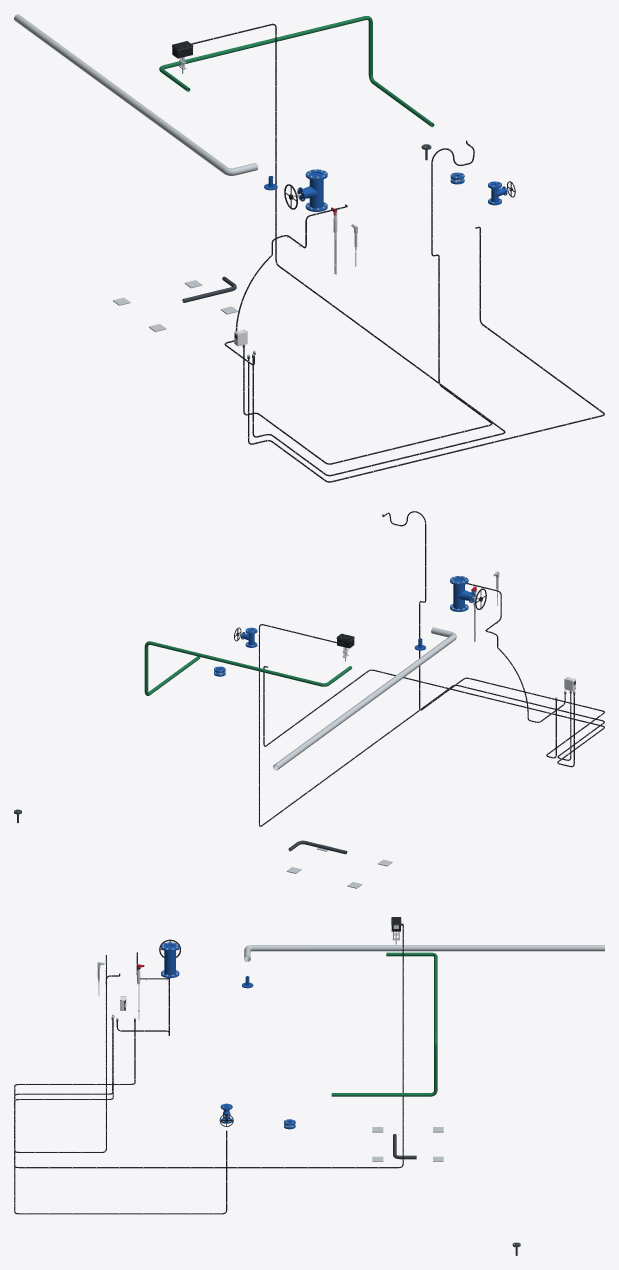
Rendered from s4000-4-CAL-NnXQ.glb.
3 renders of one model, top to bottom at view 1: azimuth 30°, elevation 25°; view 2: azimuth 150°, elevation 25°; view 3: azimuth 270°, elevation 25°, orthographic. The views are drawn at different scales.
Visible parts, largest first — view 1: safety_vent_2 / steel, mod_eco_drive_cable / black, to_direct / green, wiring_pump_1 / black, wiring_pressure_transmitter / black, steam_manual / blue; view 2: safety_vent_2 / steel, to_direct / green, mod_eco_drive_cable / black, wiring_pump_1 / black, wiring_pressure_transmitter / black, steam_manual / blue; view 3: safety_vent_2 / steel, mod_eco_drive_cable / black, to_direct / green, wiring_pump_1 / black, wiring_pressure_transmitter / black, steam_manual / blue.
Part boxes in pixels (x1,y1,x2,y2): safety_vent_2 / steel: (14,14,257,175); mod_eco_drive_cable / black: (191,23,505,476); to_direct / green: (159,16,434,127); wiring_pump_1 / black: (248,226,604,482); wiring_pressure_transmitter / black: (243,140,492,464); steam_manual / blue: (297,169,327,211); safety_vent_2 / steel: (273,627,456,770); to_direct / green: (144,641,341,695); mod_eco_drive_cable / black: (259,624,604,826); wiring_pump_1 / black: (263,666,604,767); wiring_pressure_transmitter / black: (382,511,604,758); steam_manual / blue: (450,576,475,611); safety_vent_2 / steel: (244,945,604,961); mod_eco_drive_cable / black: (14,924,403,1168); to_direct / green: (331,952,437,1096); wiring_pump_1 / black: (14,1020,227,1214); wiring_pressure_transmitter / black: (14,955,135,1152); steam_manual / blue: (161,942,179,978).
Size of the model in its own units: 4.96 by 2.96 by 7.03.
